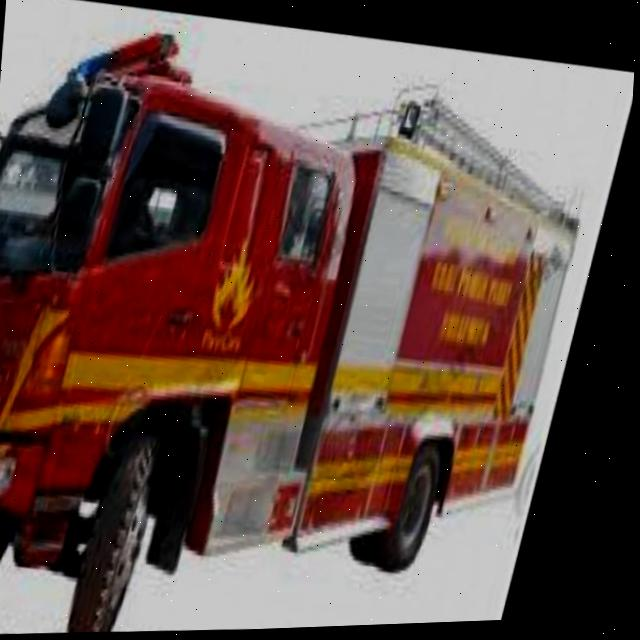emergency: (0, 15, 595, 640)
